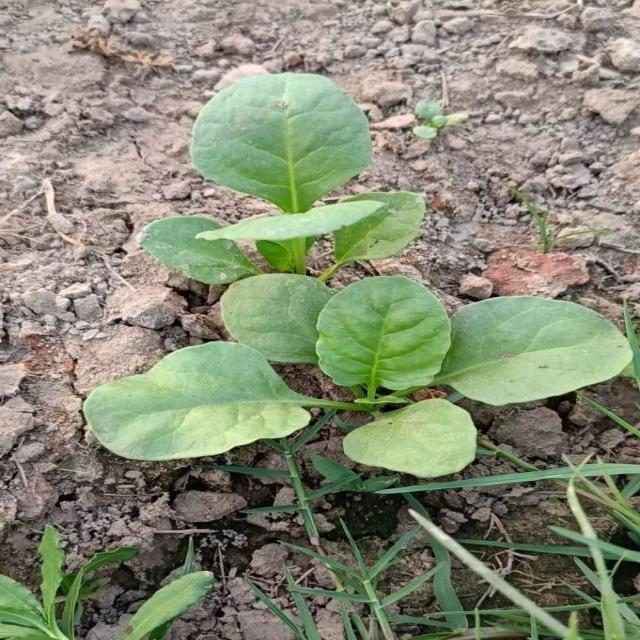plant: (83, 74, 628, 477)
